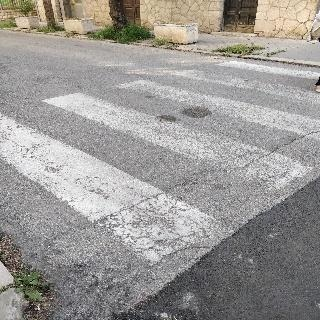road_crosswalk: (0, 71, 320, 255)
